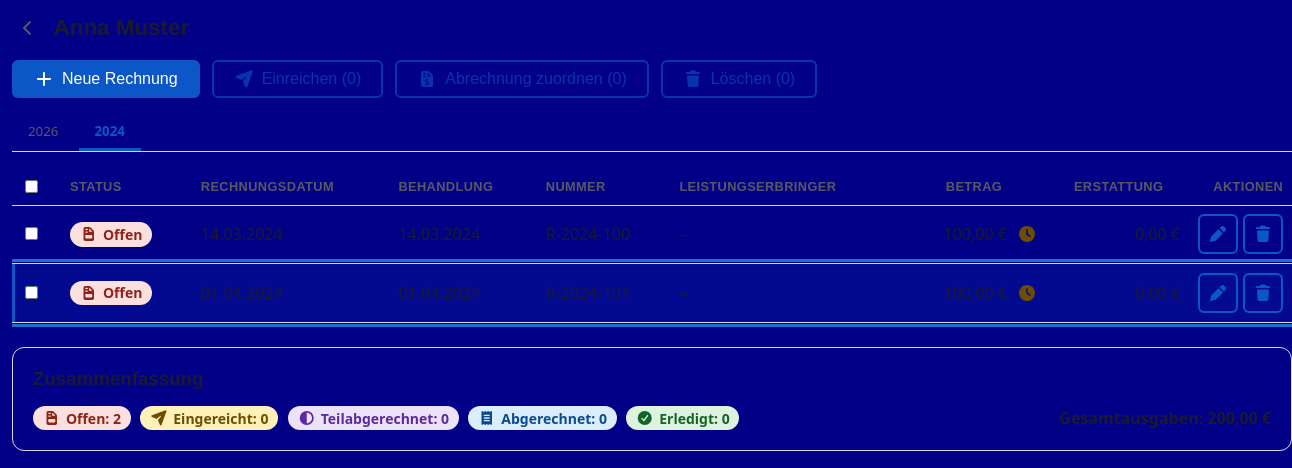
Scenario: InvoiceWorkspaceView arriving from the invoice-number search › drops the mark when another year is chosen
Check: the number of rows with class "is-found" is 1, box [12,264,1291,322]
Click the tab with class "eu-ws__year" showing "2026" at (43, 132), box [12,114,74,151]
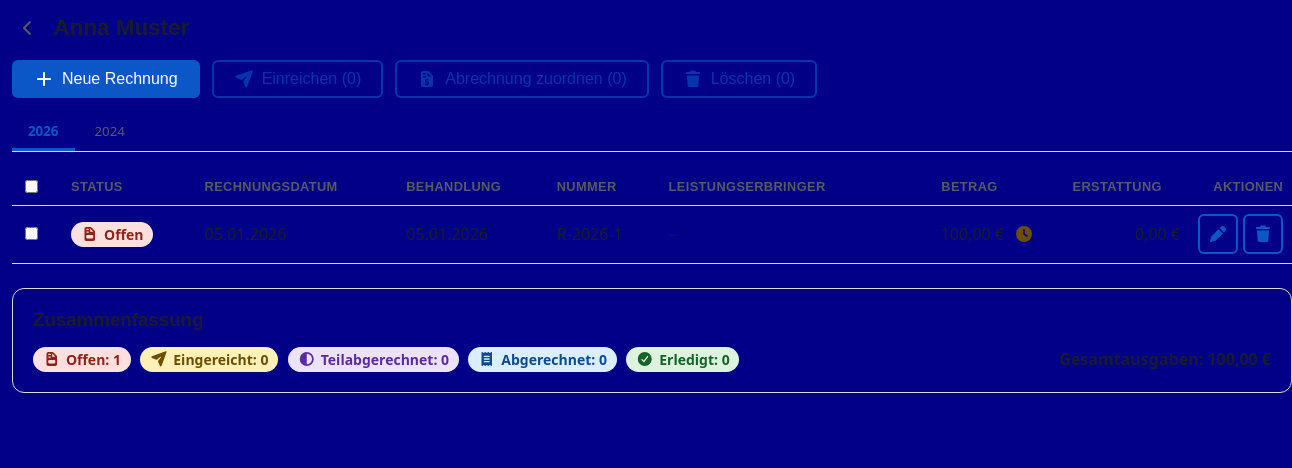
Check: no rows with class "is-found" are shown
